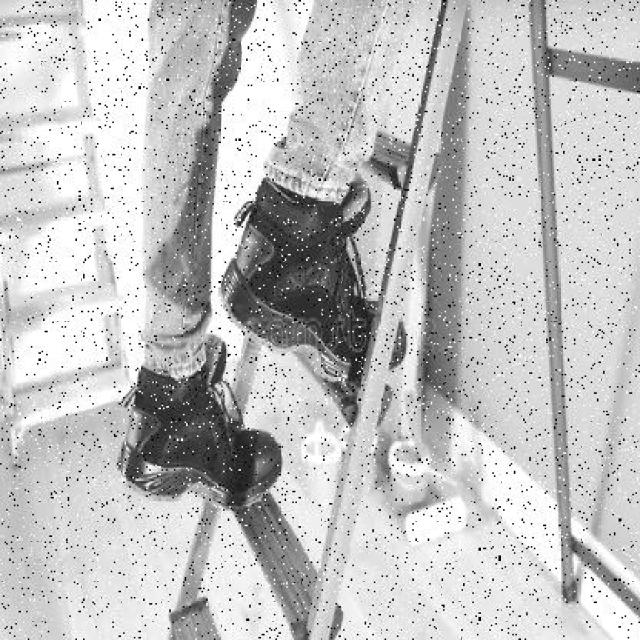shoes: (229, 180, 394, 378), (121, 355, 268, 502)
